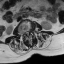CCS_normal: (27, 29, 28, 38)
LFS_severe_stenosis: (30, 28, 32, 34)
LLS_severe_stenosis: (28, 29, 30, 35)
RFS_severe_stenosis: (23, 30, 25, 36)
RLS_stenosis: (25, 30, 27, 36)
